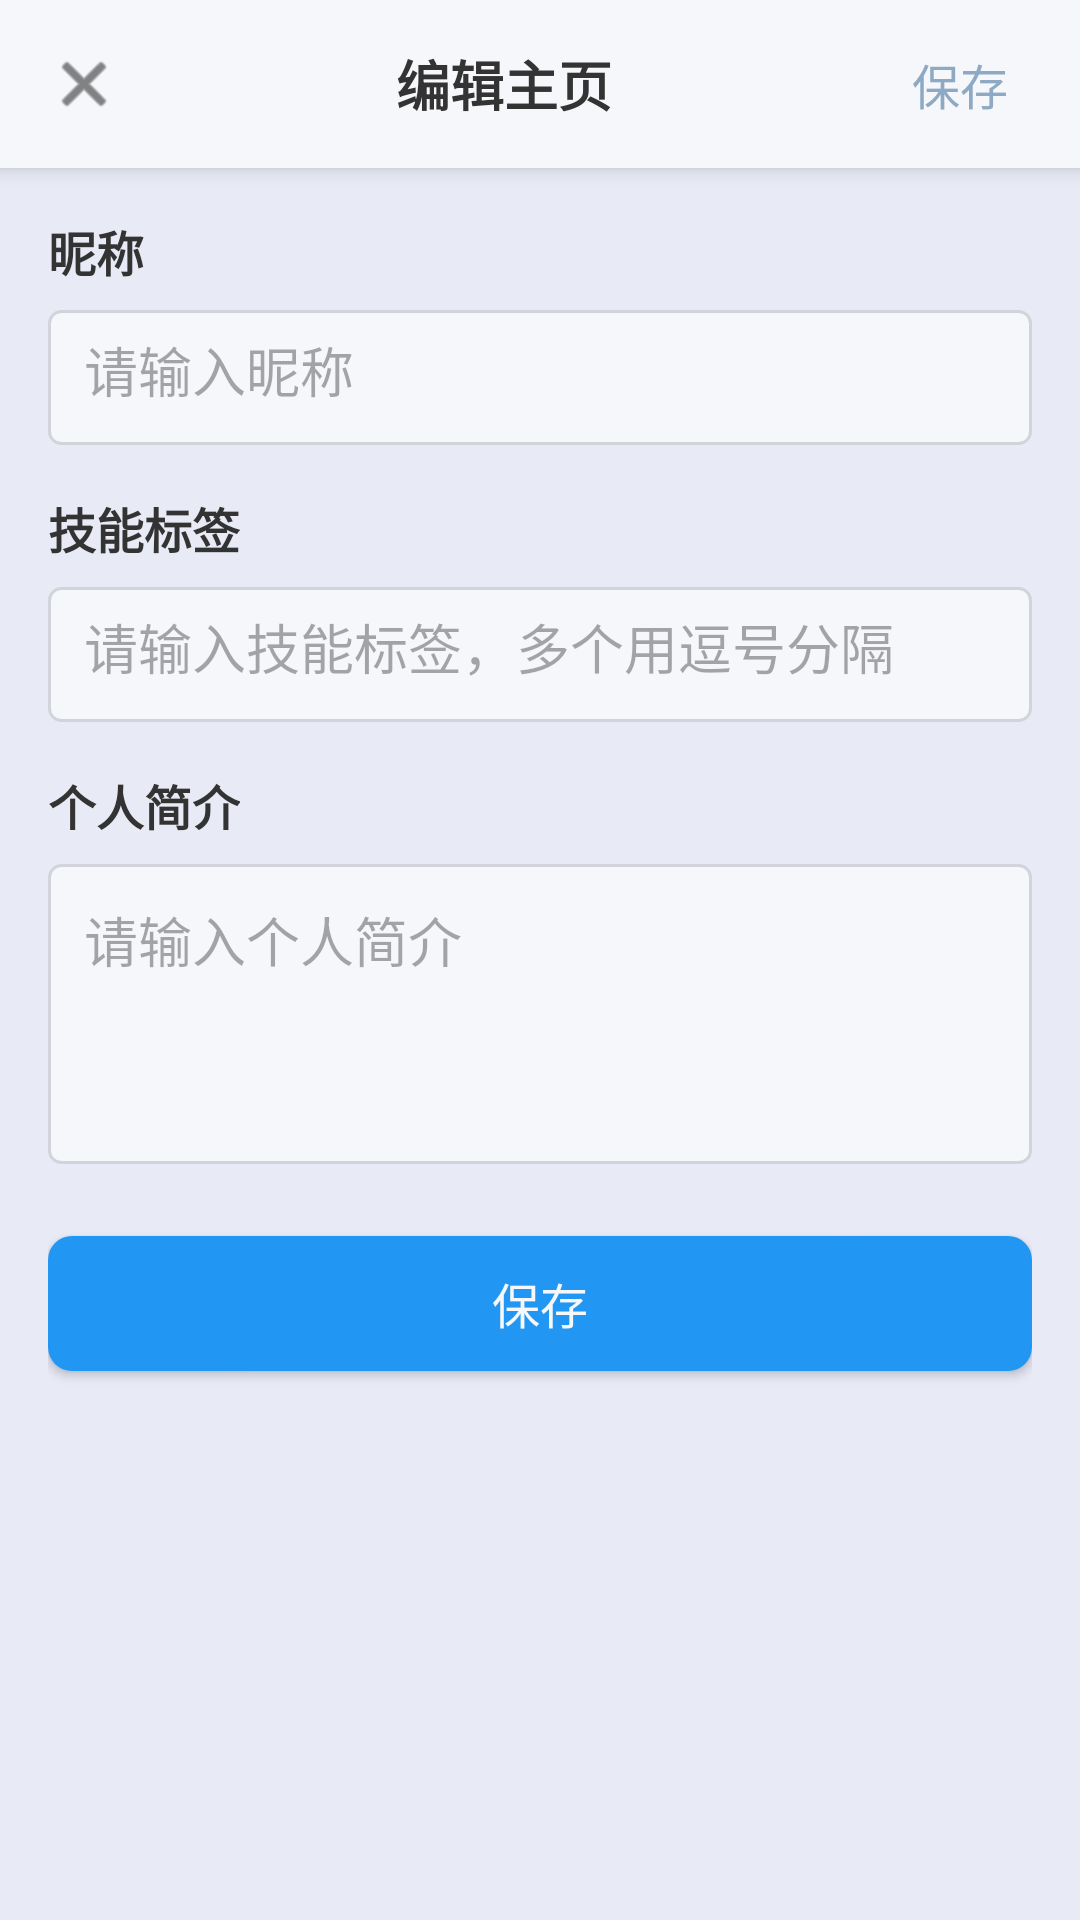

Named icons in this screenshot (1080x1920) and their bounding boxes, box(x1, y1, x2, y2):
返回: box(62, 62, 106, 106)
